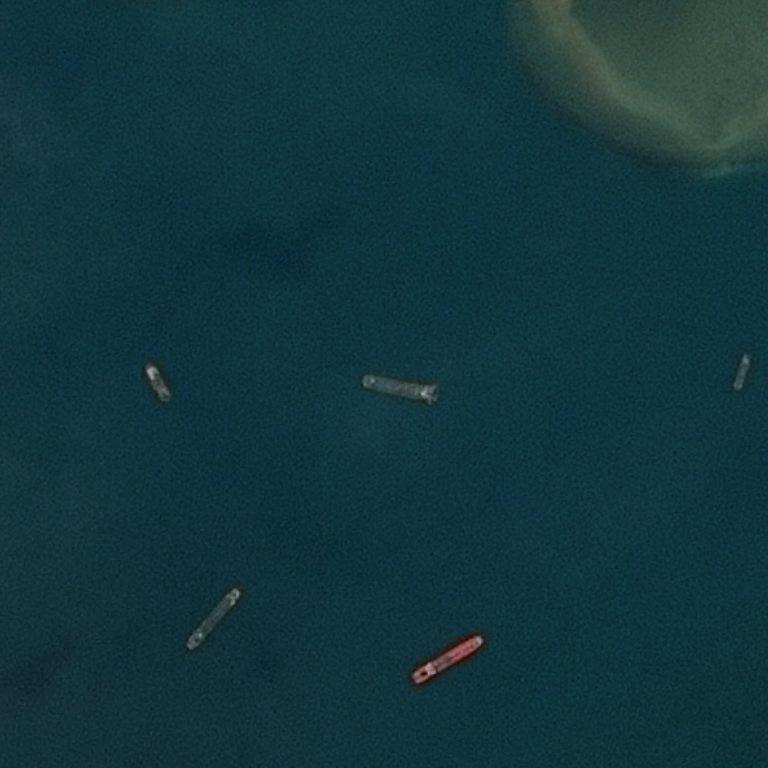ship: (184, 586, 243, 652), (142, 362, 173, 403), (731, 351, 754, 391), (398, 373, 401, 406), (447, 633, 448, 687), (433, 382, 438, 390), (734, 384, 740, 390), (478, 635, 483, 642), (362, 377, 367, 383), (144, 367, 148, 373), (741, 352, 746, 356), (236, 588, 240, 593), (416, 681, 421, 685), (31, 644, 36, 648), (166, 399, 170, 402), (0, 364, 3, 368), (190, 647, 194, 650), (748, 360, 751, 363), (410, 675, 416, 676), (431, 388, 436, 388)
